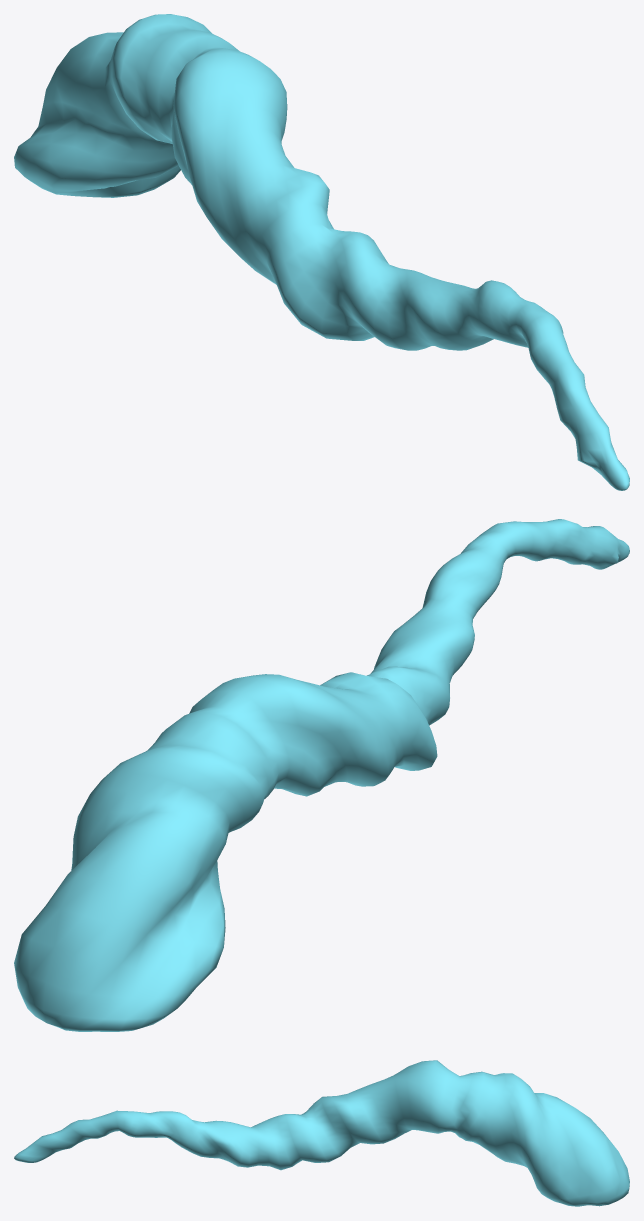
File: tree03-2.fbx
3 renders of one model, top to bottom at view 1: azimuth 30°, elevation 25°; view 2: azimuth 150°, elevation 25°; view 3: azimuth 270°, elevation 25°, orthographic. The views are drawn at different scales.
Parts seen in each view (by area): view 1: pCylinder2; view 2: pCylinder2; view 3: pCylinder2.
Part boxes in pixels (x1,y1,x2,y2): pCylinder2: [14, 14, 629, 490]; pCylinder2: [14, 519, 629, 1031]; pCylinder2: [14, 1060, 629, 1206].
Bounding box in the file's own units: 5.92 × 8.01 × 36.14.
